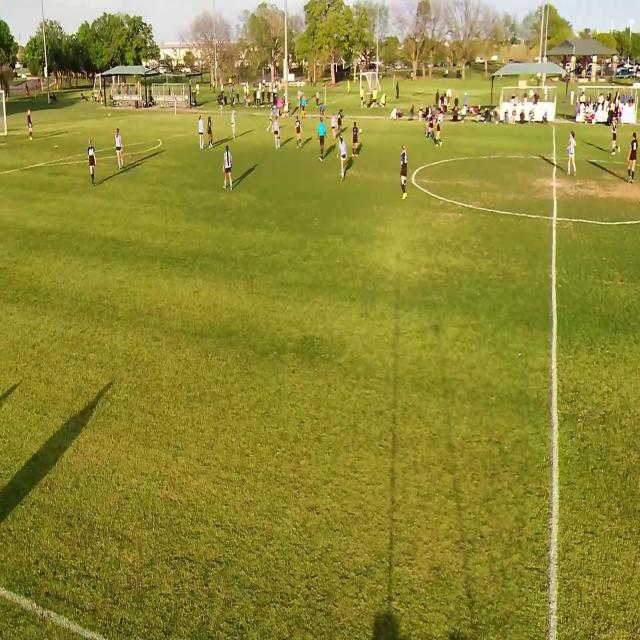ball: (359, 128, 363, 135)
team1: (626, 132, 638, 182), (400, 146, 411, 200), (88, 141, 98, 189), (612, 112, 621, 156), (435, 113, 444, 147), (207, 115, 215, 151), (352, 120, 359, 158), (296, 115, 304, 148), (338, 108, 343, 136), (430, 113, 434, 140)
team2: (568, 131, 579, 177), (339, 136, 350, 182), (225, 143, 235, 192), (116, 126, 125, 168), (198, 114, 206, 151), (273, 116, 281, 150), (231, 108, 237, 137), (267, 106, 273, 133), (332, 110, 337, 142), (425, 106, 430, 138)
